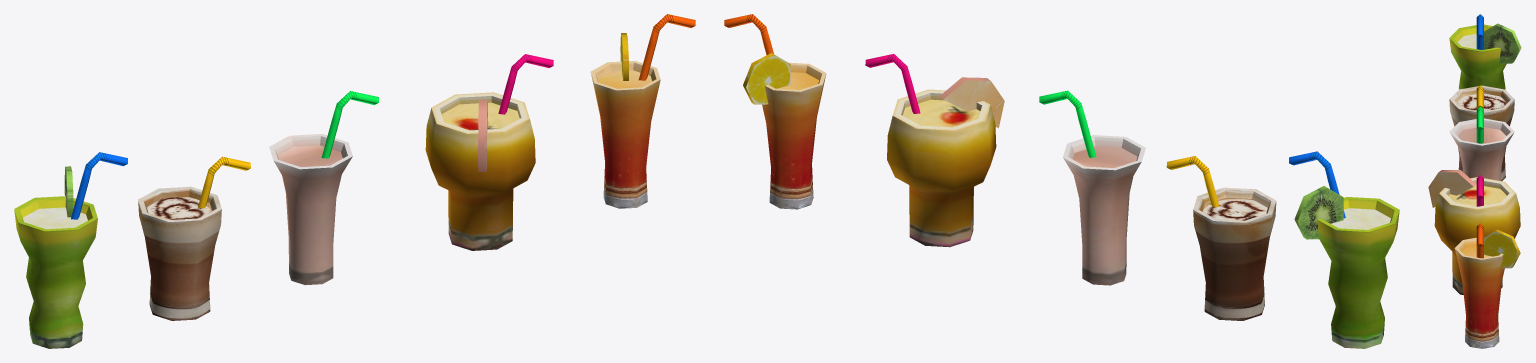
Rendered from furni_0201013.FBX.
The picture shows the model from 3 angles, left to right: view 1: azimuth 30°, elevation 25°; view 2: azimuth 150°, elevation 25°; view 3: azimuth 270°, elevation 25°; orthographic projection. The views are drawn at different scales.
Parts seen in each view (by area): view 1: furni_0201013; view 2: furni_0201013; view 3: furni_0201013.
Boxes of the visible parts, x1=… form: furni_0201013: x1=14, y1=14, x2=695, y2=348; furni_0201013: x1=724, y1=14, x2=1399, y2=348; furni_0201013: x1=1428, y1=14, x2=1521, y2=348.
Size of the model in its own units: 158 by 39.51 by 24.99.
1 material, 1 textured.
